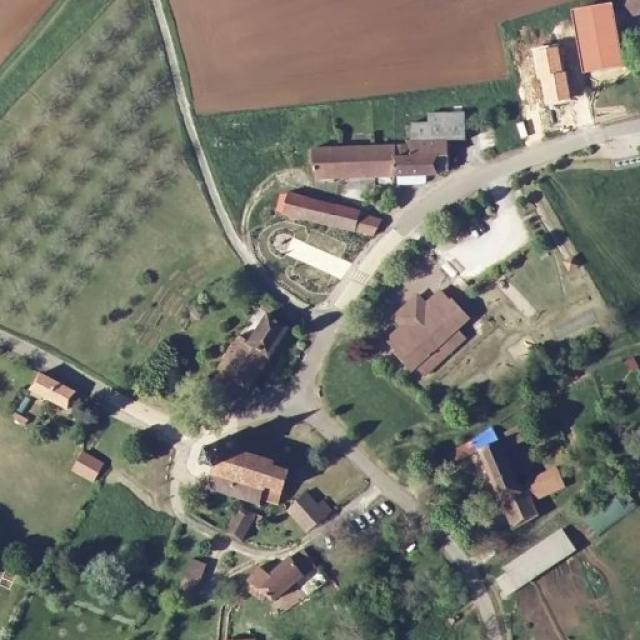ferme: (549, 0, 640, 96)
immeuble: (304, 107, 475, 190), (376, 276, 494, 388)
maison: (457, 400, 572, 534), (213, 301, 307, 395), (237, 536, 342, 620), (200, 432, 299, 510), (9, 360, 88, 430), (55, 442, 106, 488)
